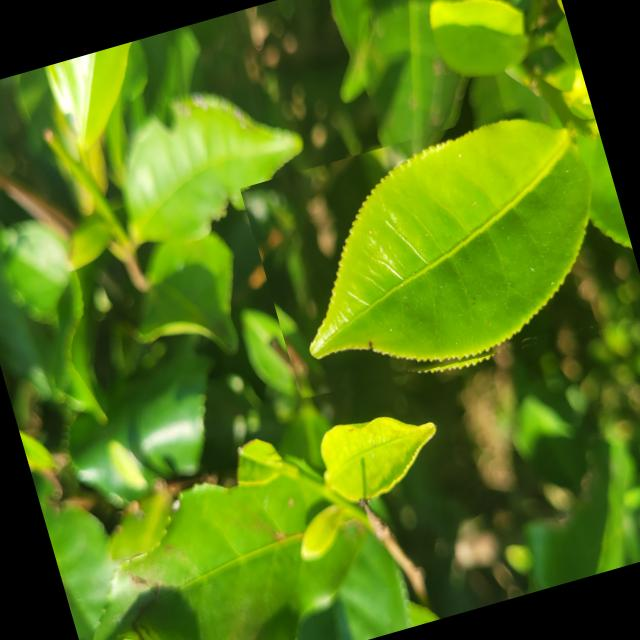Catagory A(1-2 days): (240, 93, 636, 416)
